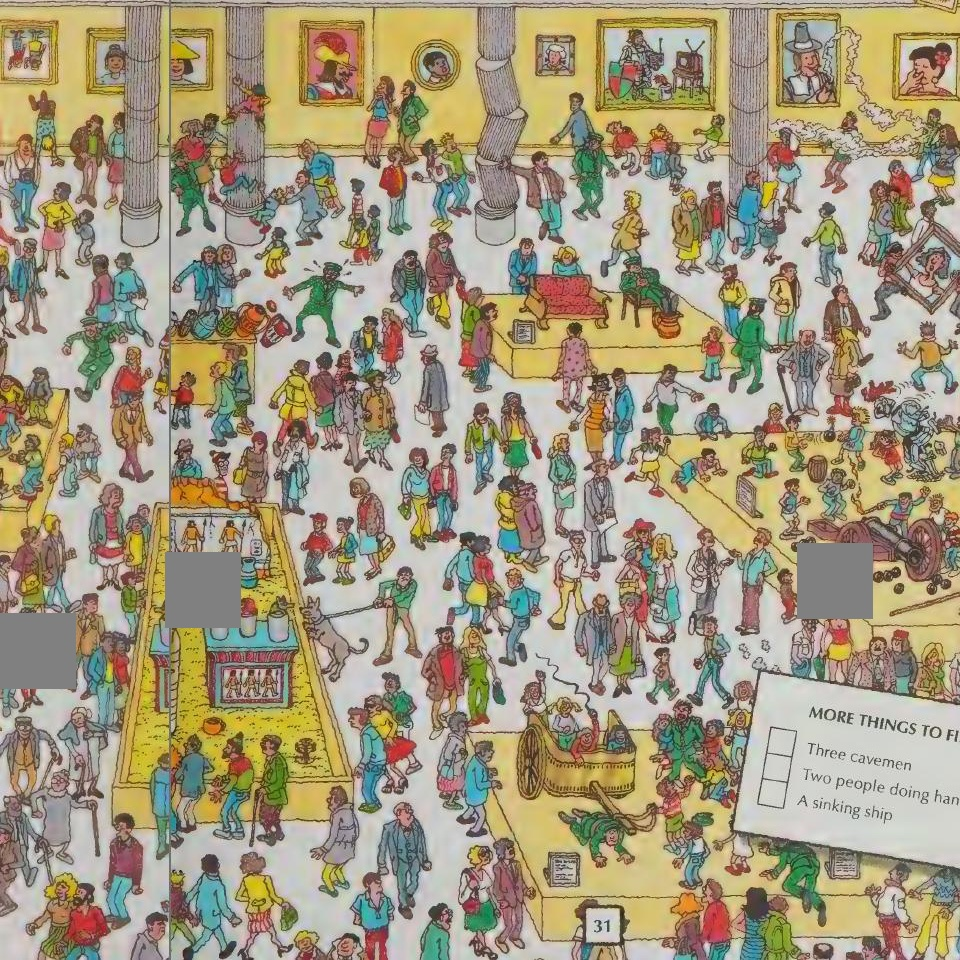waldo: (210, 451, 232, 493)
